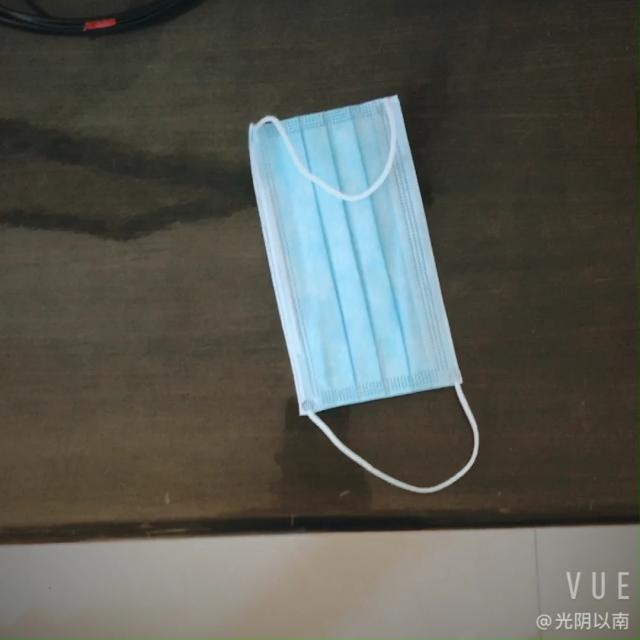face mask: (226, 78, 494, 430)
